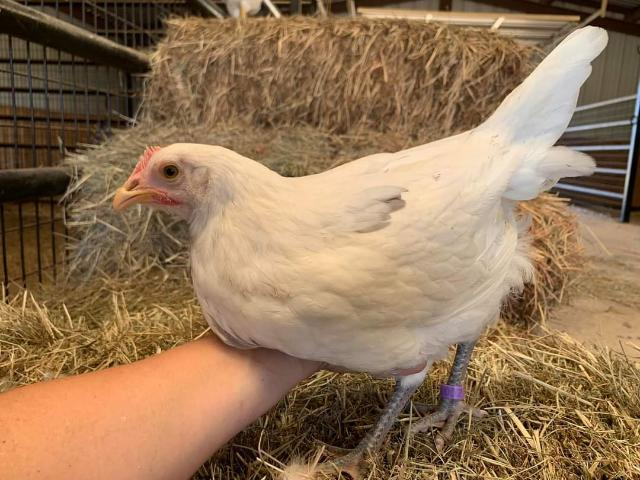Chicken: (111, 24, 610, 474)
